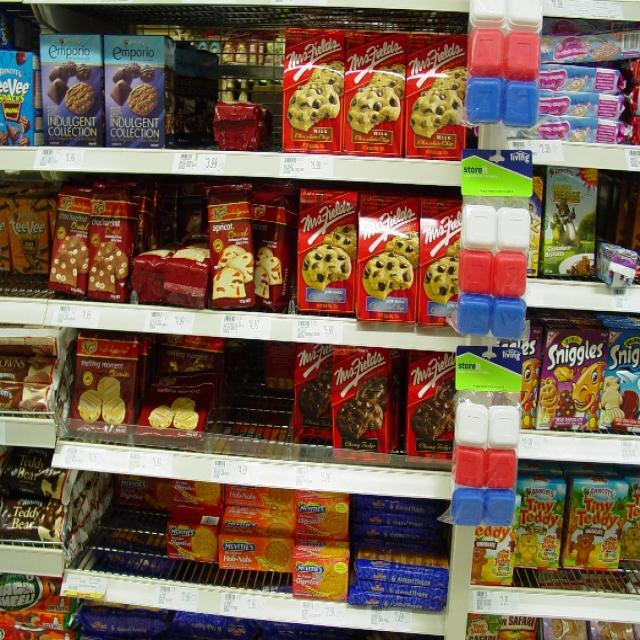q157: (358, 188, 418, 328), (284, 28, 347, 155), (347, 31, 408, 158), (408, 38, 468, 158), (298, 186, 354, 314), (420, 188, 460, 328)
